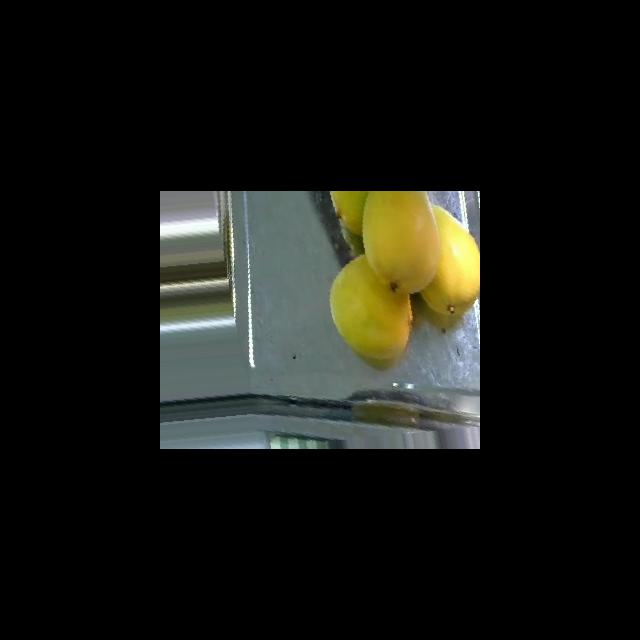Mango: (329, 254, 412, 366), (361, 191, 440, 294), (419, 203, 479, 316)
